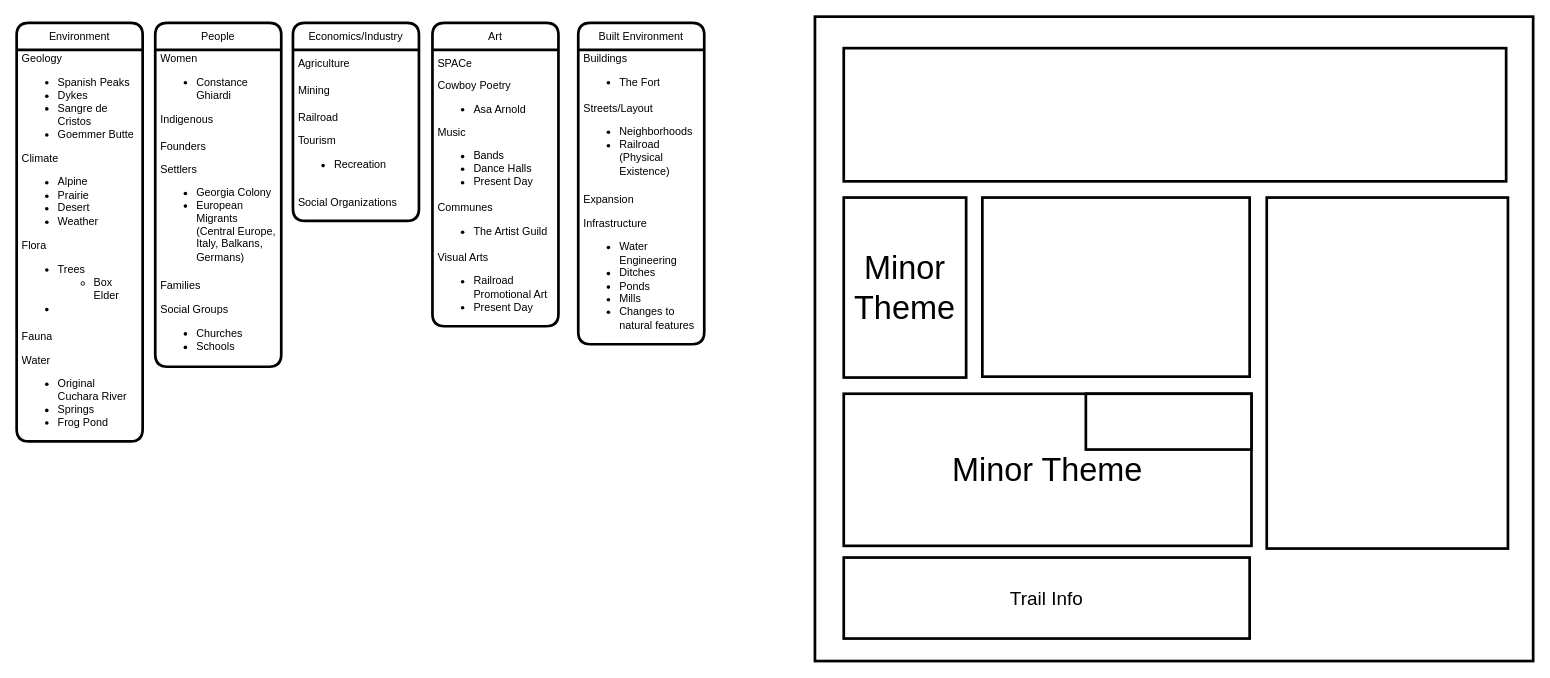
Image size: 1550x678. Some labels were removed from this diagram. Each missing label, with the centre of its shape:
"Headline (What's most important about this particular position?)" belongs at (x=1174, y=114).
"Photo (Related to another theme)" belongs at (x=1116, y=287).
"Secondary Theme" belongs at (x=1387, y=372).
"Visual" belongs at (x=1168, y=421).
